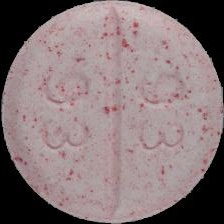54868-2462: (0, 0, 224, 224)
